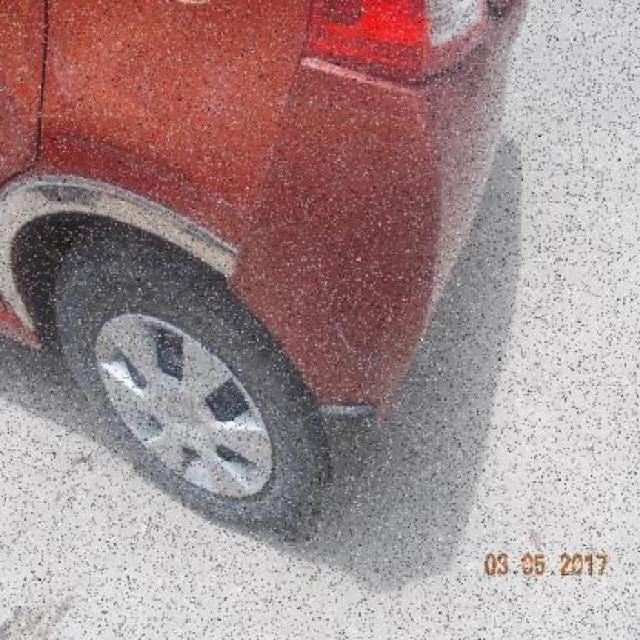rear-bumper-dent: (217, 91, 473, 514)
